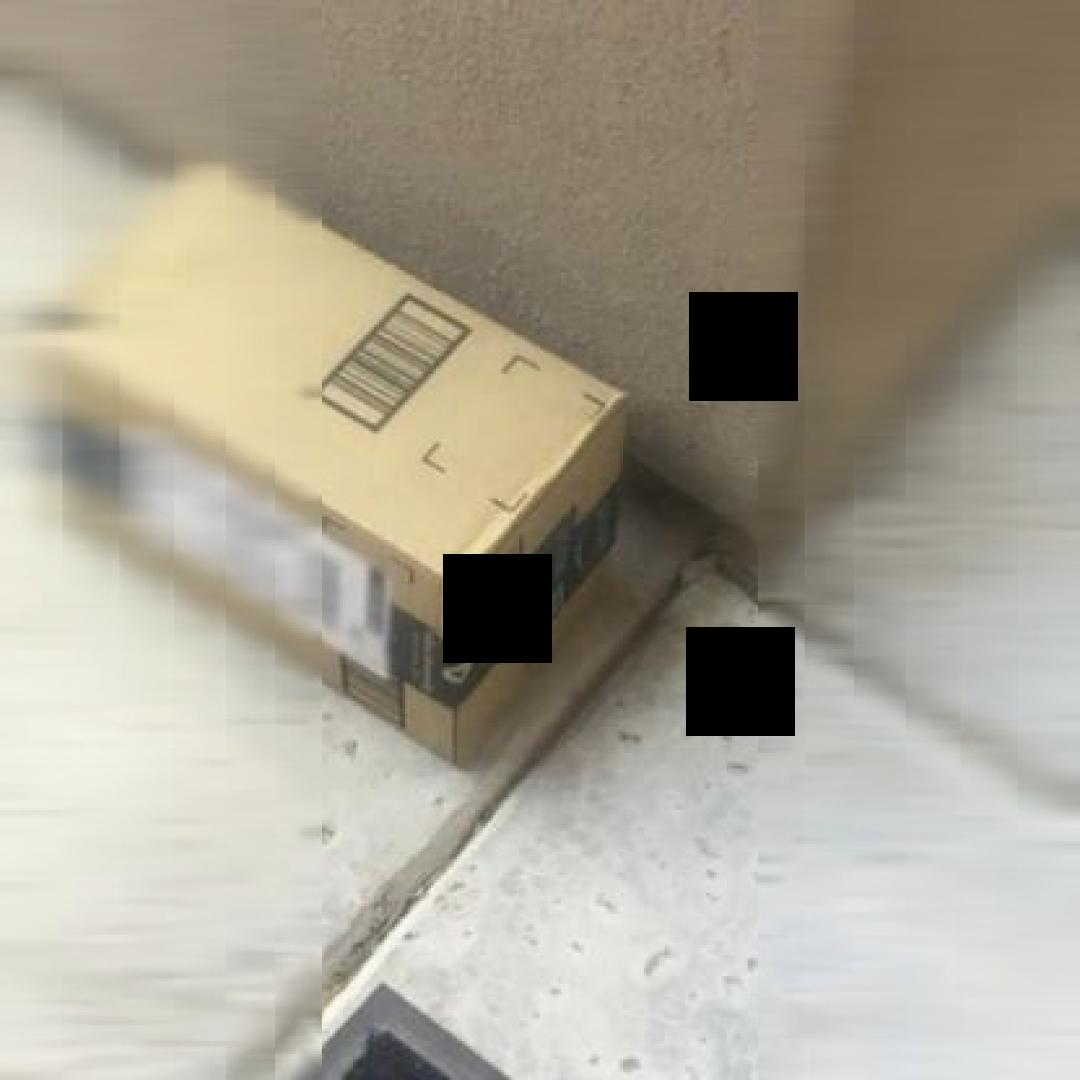package: (23, 162, 634, 774)
